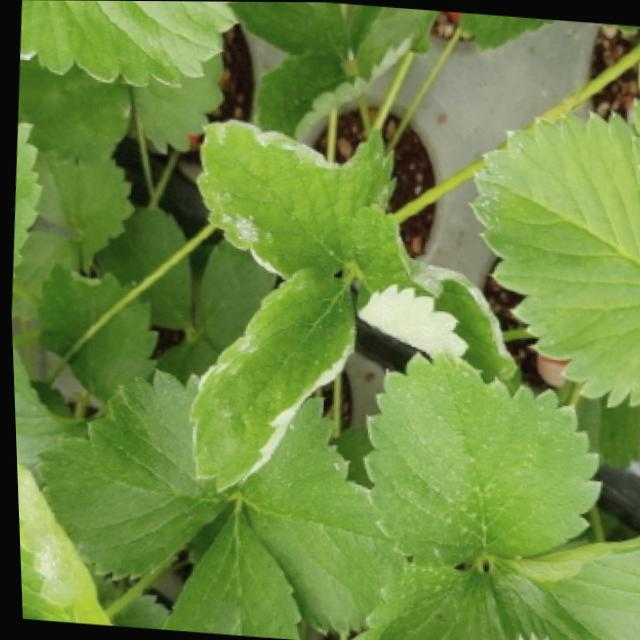Powdery Mildew Leaf: (182, 263, 353, 495), (345, 200, 518, 394), (192, 119, 396, 282), (19, 0, 241, 89), (13, 456, 109, 625), (248, 41, 363, 139), (348, 4, 440, 84)
